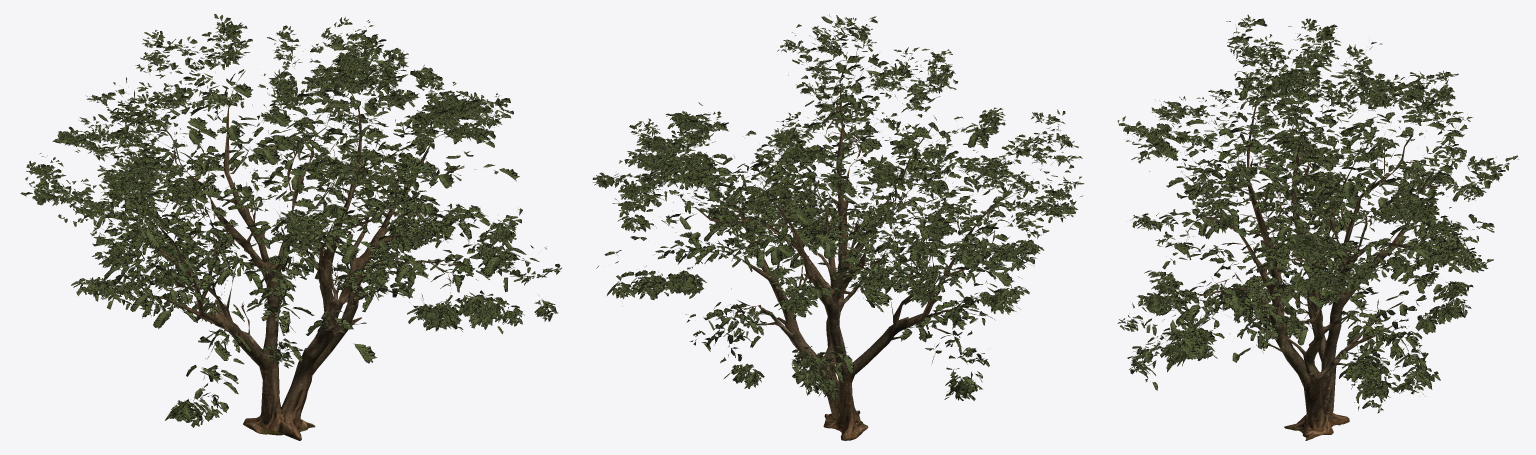
File: jacaranda_tree.glb
The picture shows the model from 3 angles, left to right: view 1: azimuth 30°, elevation 25°; view 2: azimuth 150°, elevation 25°; view 3: azimuth 270°, elevation 25°; orthographic projection. The views are drawn at different scales.
Parts seen in each view (by area): view 1: jacaranda_tree_LOD0; view 2: jacaranda_tree_LOD0; view 3: jacaranda_tree_LOD0.
Boxes of the visible parts, left/top/right/bottom form: jacaranda_tree_LOD0: left=20, top=14, right=561, bottom=440; jacaranda_tree_LOD0: left=592, top=14, right=1084, bottom=440; jacaranda_tree_LOD0: left=1117, top=14, right=1518, bottom=440.
Bounding box in the file's own units: 24.14 × 19.47 × 19.
3 materials, 3 textured.
